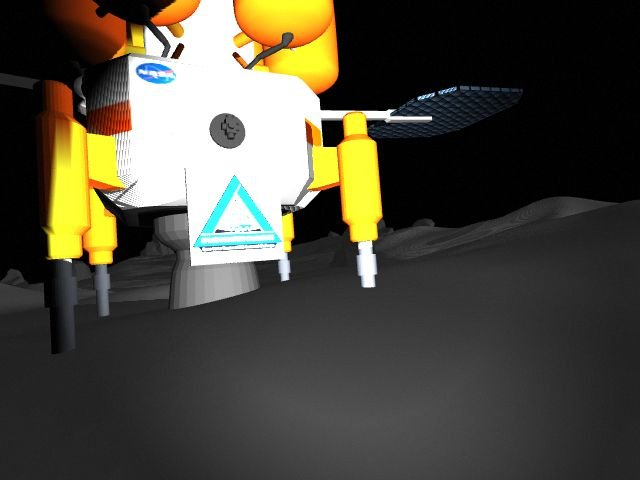basemarker: (192, 174, 282, 254)
